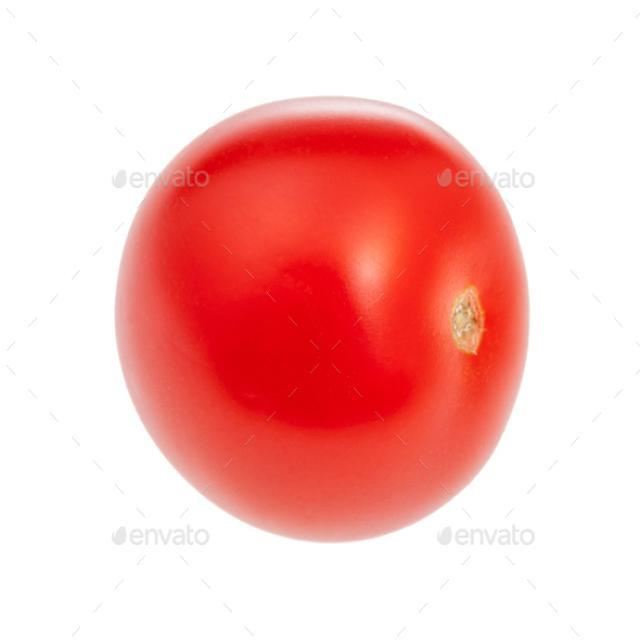kirmizi: (104, 80, 540, 544)
